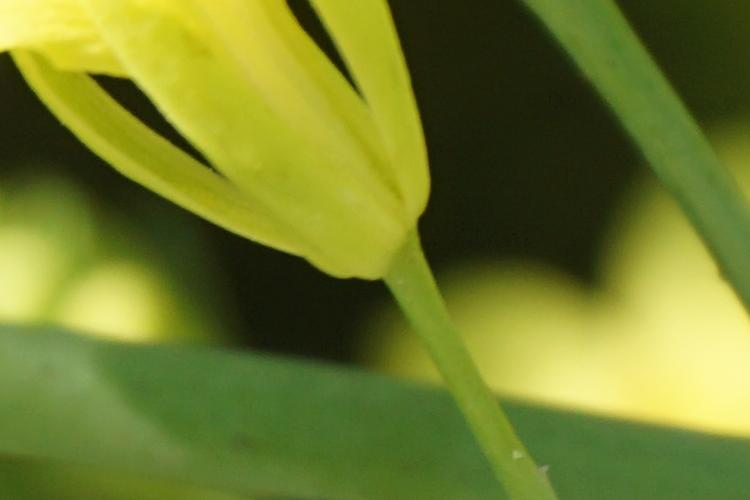yellow: (16, 3, 438, 293)
